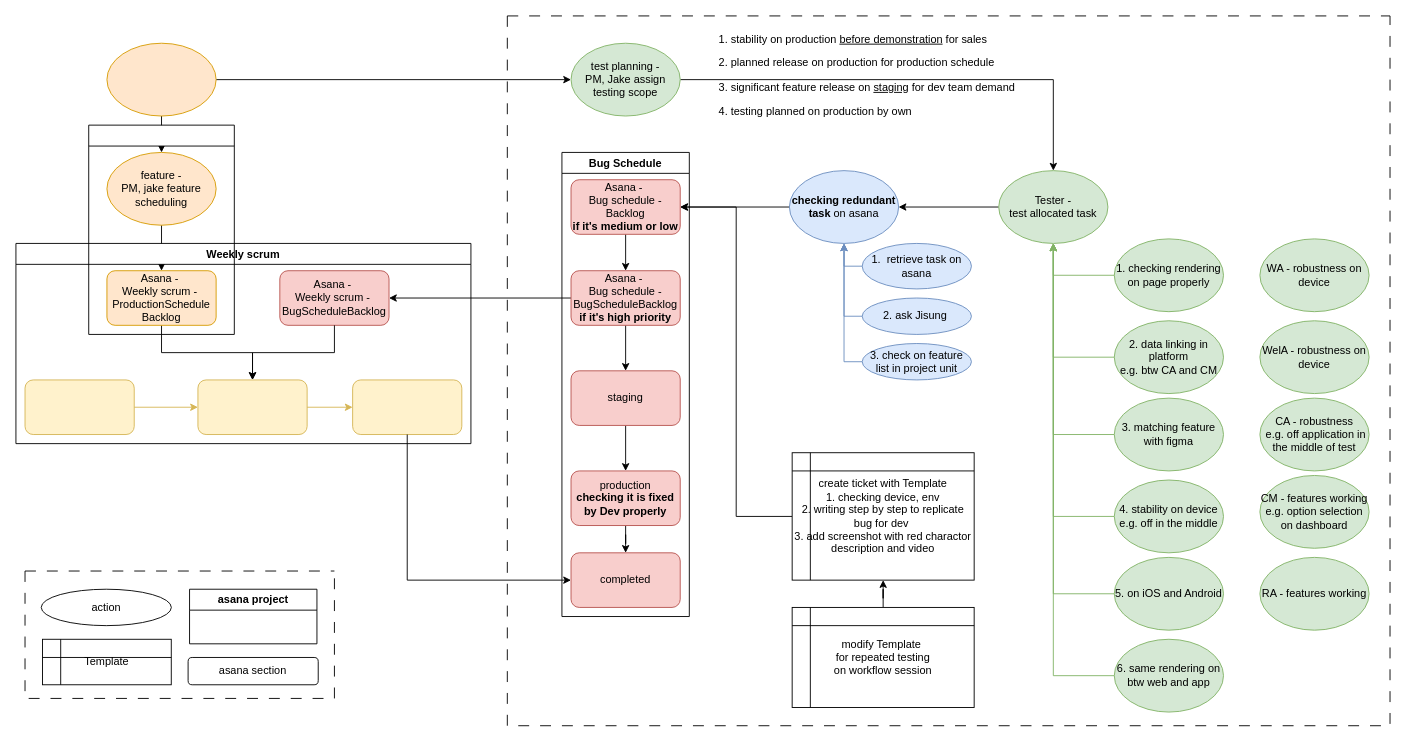
Some shapes in this 1406 by 742 pixel diagram are drawn without their labels. The centre of each missing label's shape, as x and y in pixels:
"Asana - Weekly scrum - Next week task" goes at point 79,407.
"Asana - Weekly scrum - Past week task" goes at point 407,407.
"Asana - Weekly scrum - This week tasks for Dev" goes at point 252,407.
"PM jake" goes at point 161,79.
"production schedule" goes at point 161,229.
